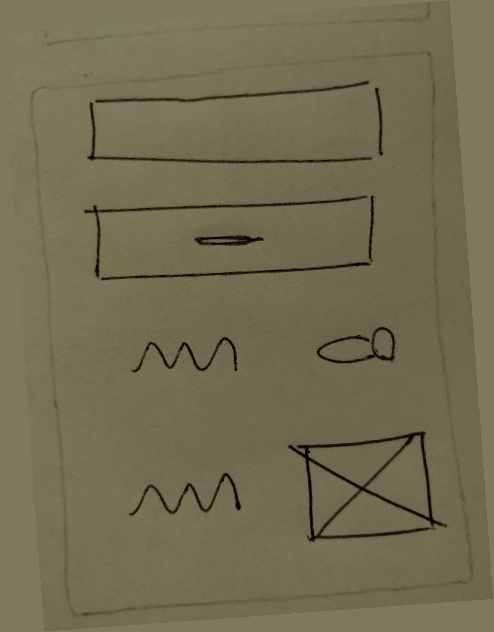button: (80, 182, 390, 303)
image: (282, 426, 454, 547)
switch: (305, 319, 402, 378)
text: (118, 456, 251, 537), (119, 322, 247, 390)
text_input: (80, 70, 392, 193)
